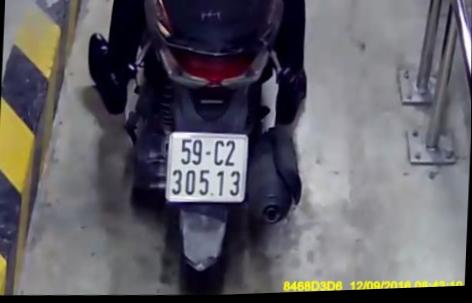LP: (165, 130, 250, 208)
